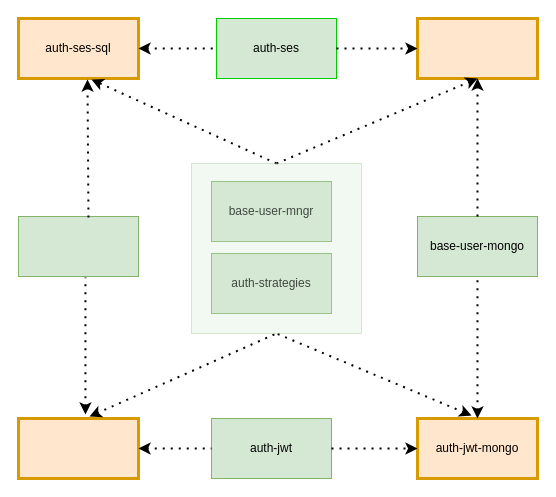
Some shapes in this 556 by 497 pixel diagram are drawn without their labels. The shapes that lost their labels are listed below. From the top down, each one's centre as x and y in pixels, then its label:
At point (477, 48): "auth-ses-mongo".
At point (78, 246): "base-user-sql".
At point (78, 448): "auth-jwt-sql".
